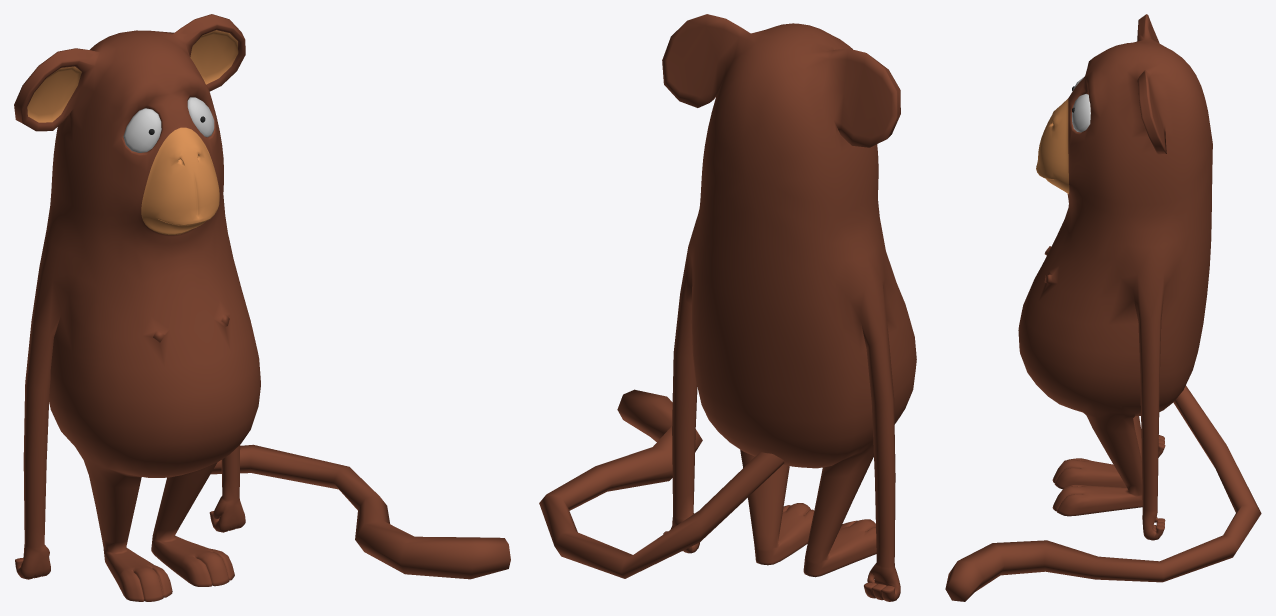
The model's file is uploads_files_835598_Chimp.FBX.
3 renders of one model, left to right at view 1: azimuth 30°, elevation 25°; view 2: azimuth 150°, elevation 25°; view 3: azimuth 270°, elevation 25°, orthographic. The views are drawn at different scales.
Parts seen in each view (by area): view 1: Chimp; view 2: Chimp; view 3: Chimp.
Part boxes in pixels (<box>): Chimp: <box>14,14,510,601</box>; Chimp: <box>539,14,916,601</box>; Chimp: <box>945,14,1261,601</box>.
Bounding box in the file's own units: 106 × 139 × 88.7.
